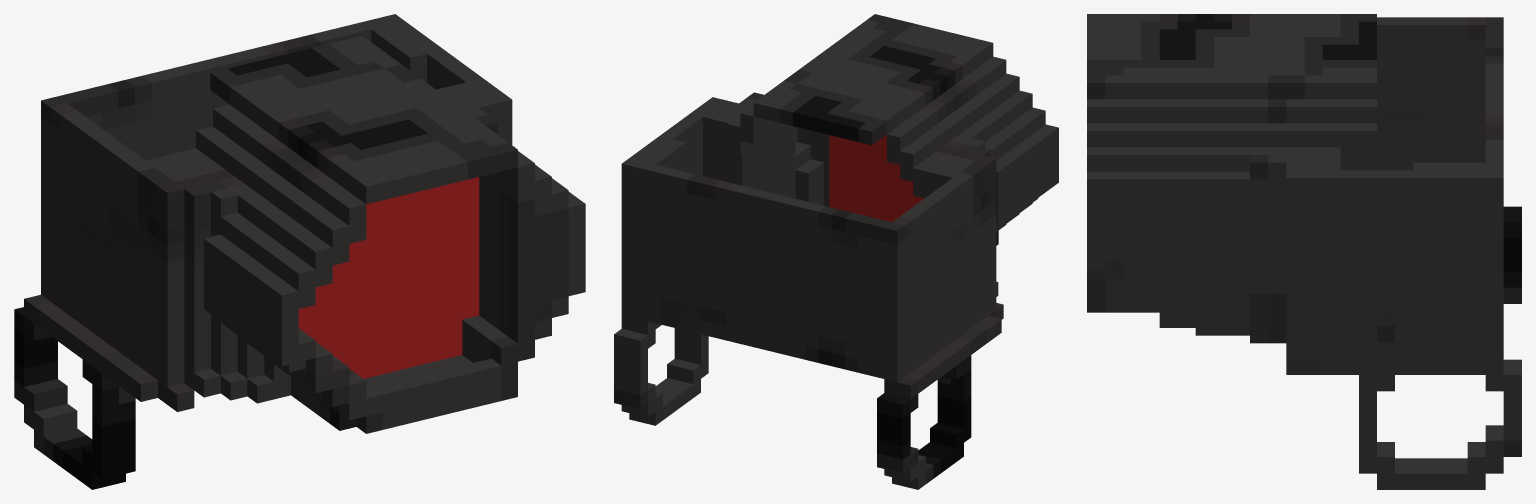
The model's file is Blastkart.gltf.
3 views of the same model, side by side, from view 1: azimuth 30°, elevation 25°; view 2: azimuth 150°, elevation 25°; view 3: azimuth 270°, elevation 25° (orthographic). The views are drawn at different scales.
Visible parts, largest first — view 1: Layer.1; view 2: Layer.1; view 3: Layer.1.
Part boxes in pixels (x1,y1,x2,y2): Layer.1: (14,14,585,489); Layer.1: (614,14,1058,489); Layer.1: (1087,14,1521,489).
Bounding box in the file's own units: 22 × 22 × 24.
1 material, 1 textured.
